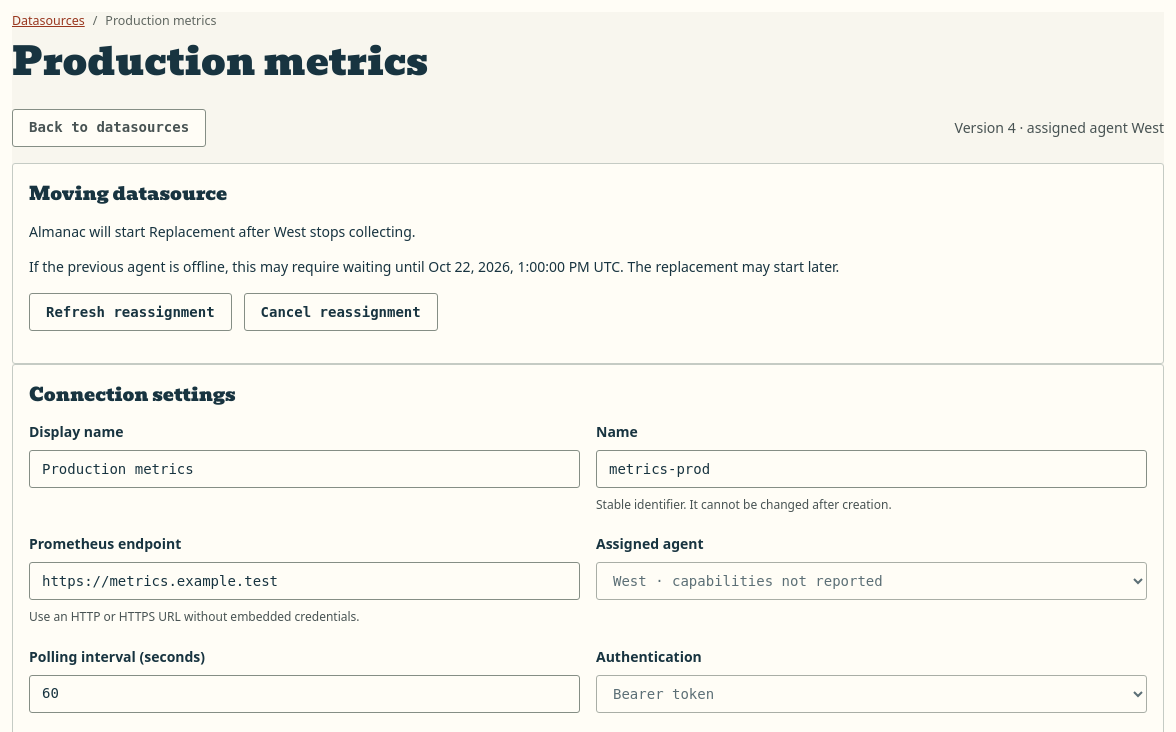
Test: datasource page › keeps a stale cancellation blocked and tells the user to refresh
Click the button "Cancel reassignment". click: (341, 312)
box: x1=244 y1=293 x2=438 y2=331
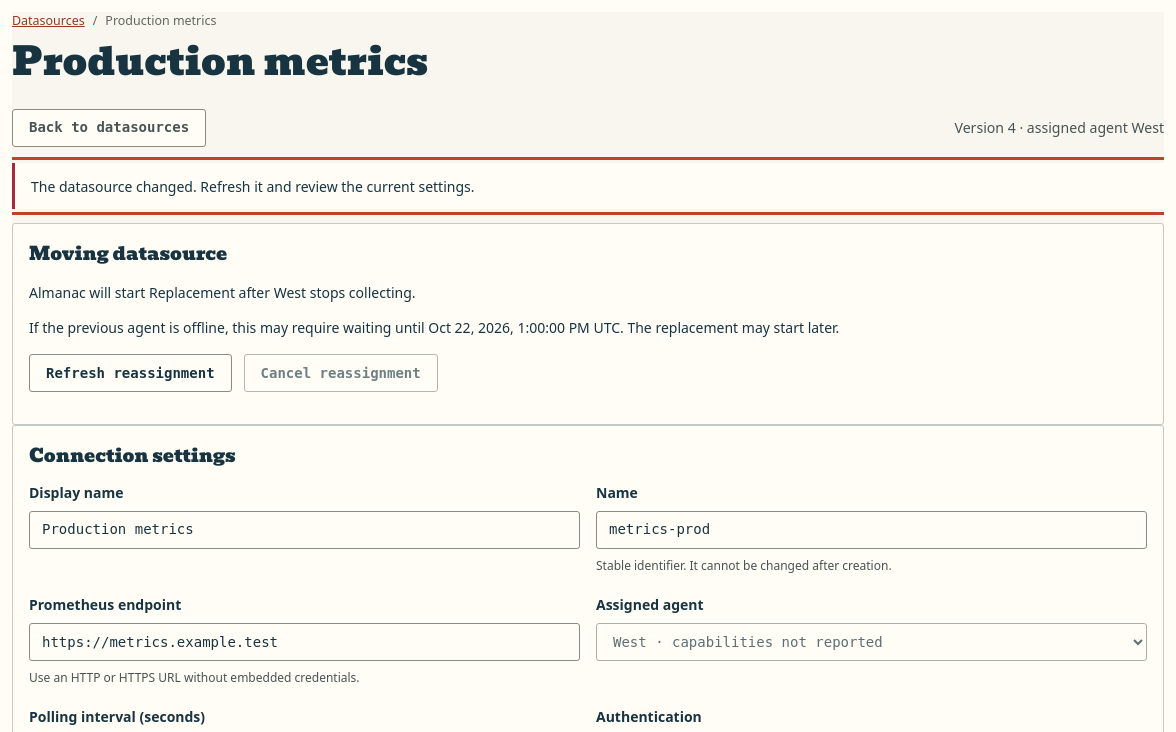
Check: the heading "Moving datasource" is shown, box x1=29 y1=239 x2=227 y2=268
Check: the message shows "Refresh it", box x1=31 y1=177 x2=474 y2=196
Check: the button "Cancel reassignment" is disabled, box x1=244 y1=354 x2=438 y2=392
Click the button "Refresh reassignment". click: (130, 373)
box: x1=29 y1=354 x2=232 y2=392
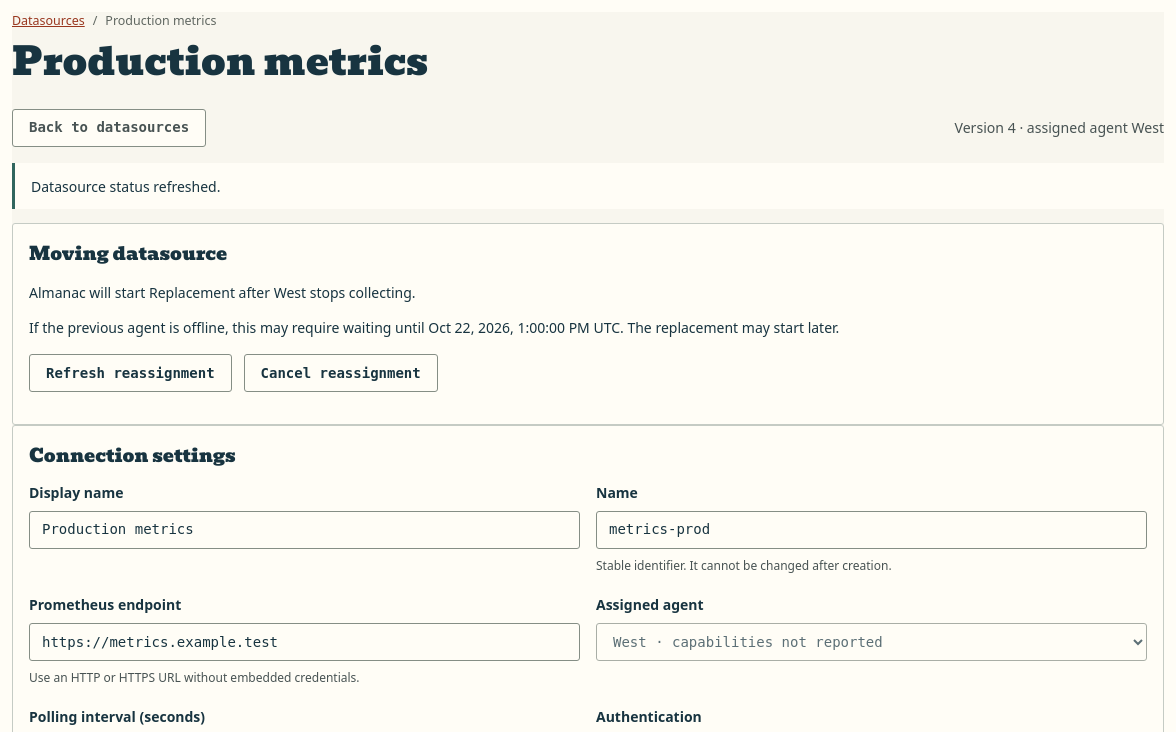
Check: the button "Cancel reassignment" is enabled, box x1=244 y1=354 x2=438 y2=392
